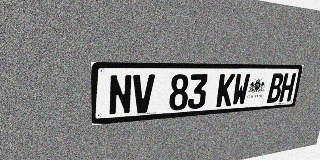3: (187, 74, 208, 109)
8: (168, 74, 190, 111)
B: (266, 73, 284, 103)
H: (279, 73, 296, 102)
K: (216, 74, 236, 107)
N: (108, 74, 132, 116)
V: (132, 74, 155, 114)
W: (231, 74, 250, 106)
